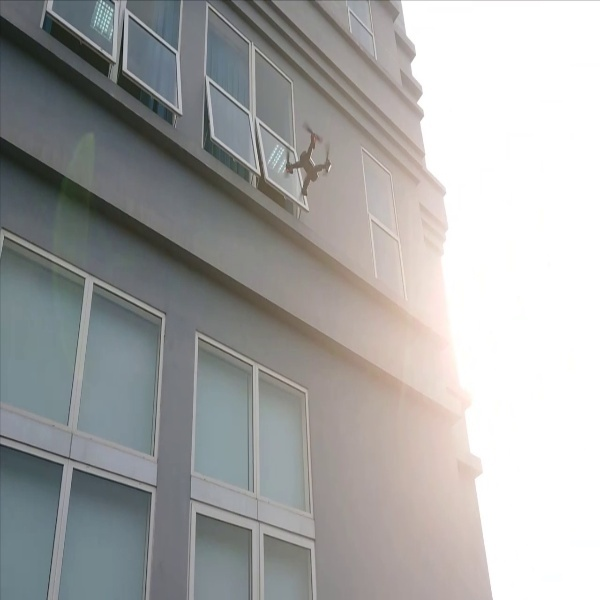drone: (277, 116, 336, 199)
